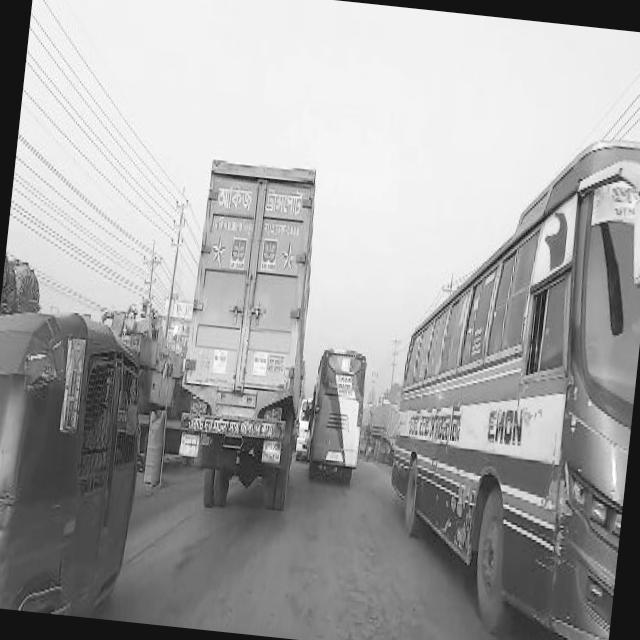bus: (374, 112, 640, 640), (304, 344, 368, 482)
motorcycle: (0, 305, 153, 617), (357, 420, 373, 458)
truck: (170, 150, 320, 510), (364, 402, 396, 461), (293, 394, 312, 460)
